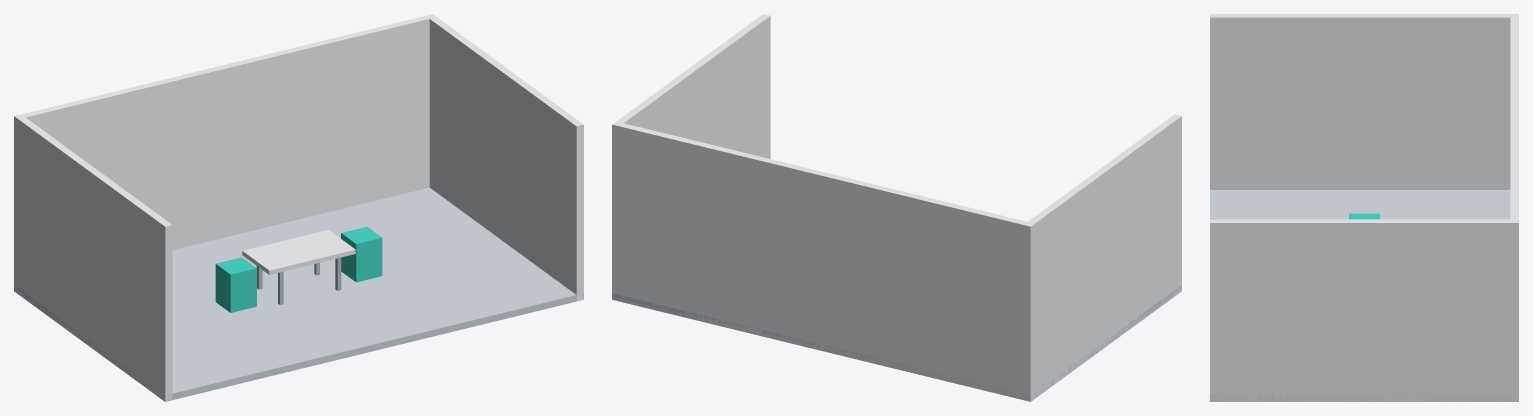
3 renders of one model, left to right at view 1: azimuth 30°, elevation 25°; view 2: azimuth 150°, elevation 25°; view 3: azimuth 270°, elevation 25°, orthographic. The views are drawn at different scales.
Parts seen in each view (by area): view 1: Exhibition Booth Concept; view 2: Exhibition Booth Concept; view 3: Exhibition Booth Concept.
Boxes of the visible parts, x1,y1,x2,y2 form: Exhibition Booth Concept: (14,14,583,401); Exhibition Booth Concept: (612,14,1181,401); Exhibition Booth Concept: (1210,14,1518,401).
Size of the model in its own units: 8 by 3.2 by 5.
